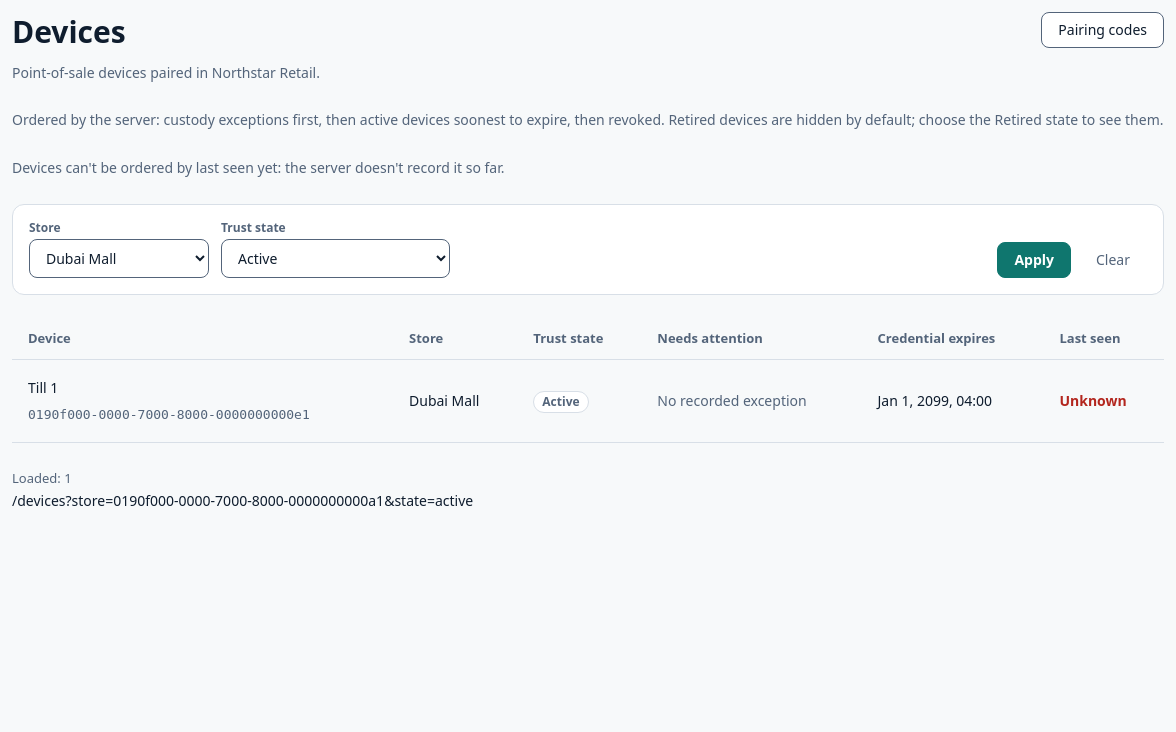
DeviceList (RT-371) › filters: Clear resets the URL and asks for every device again
Click the button "Clear" at (1113, 260), box [1079,242,1147,278]
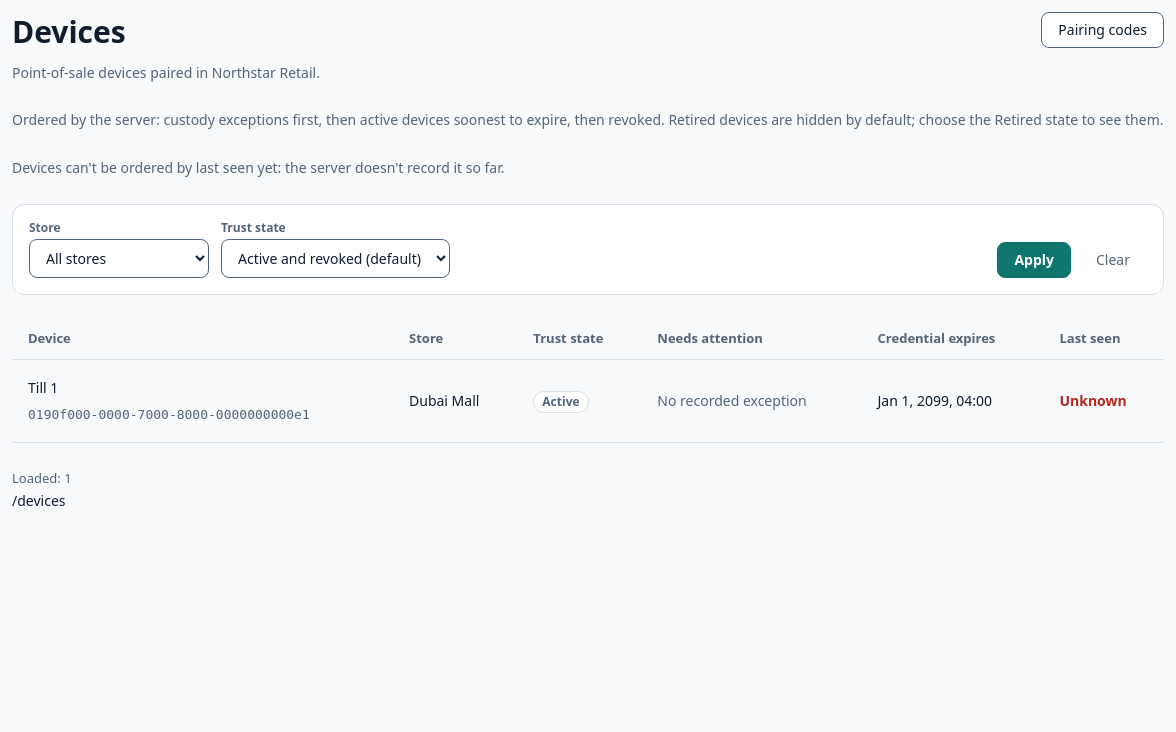
Check: the text with test id "location" reads "/devices", box [12,491,66,510]
Check: the dropdown labelled "Store" shows "All stores", box [29,239,209,278]
